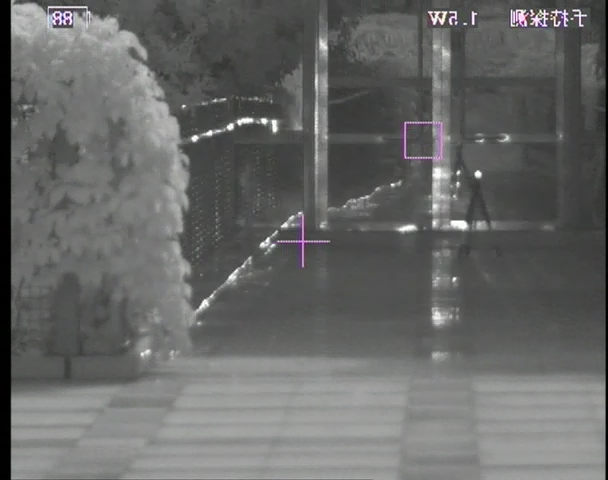my: (473, 169, 483, 179)
